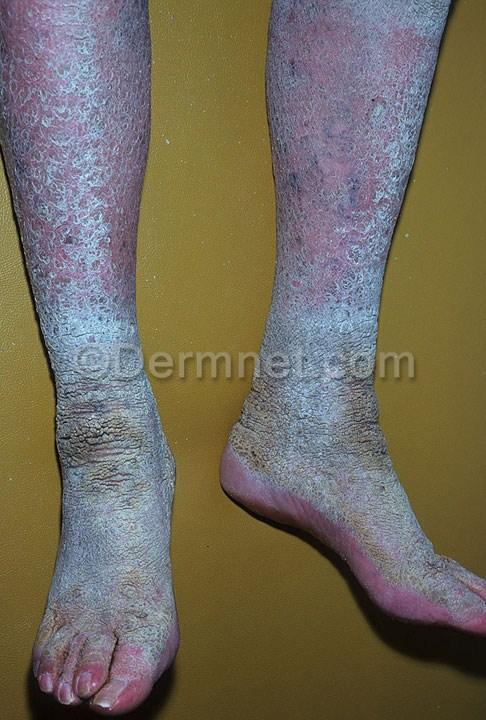eritema 3: (259, 0, 440, 321), (0, 0, 154, 339), (219, 444, 485, 639), (33, 626, 183, 718)
liquenificacion 2: (227, 359, 391, 467), (50, 383, 179, 501)
xerosis 3: (228, 0, 483, 620), (32, 0, 175, 659)
